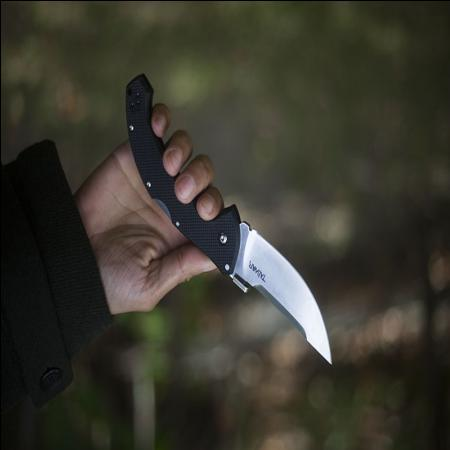long weapon: (118, 71, 335, 373)
